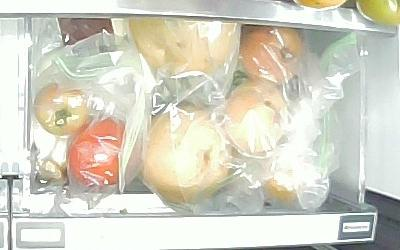peach_vinyl: (219, 76, 290, 159), (239, 24, 304, 84)
pear_vinyl: (139, 106, 237, 205), (126, 14, 239, 77)
tomato_vinyl: (66, 115, 136, 190), (33, 83, 89, 137)
